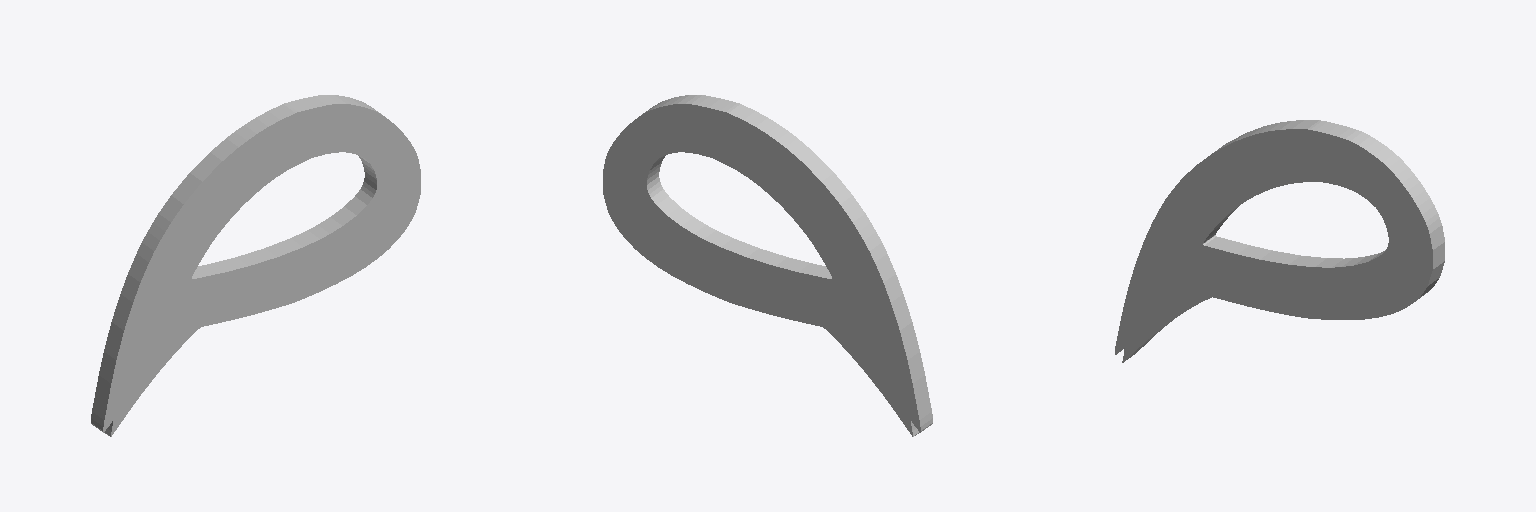
The model's file is parkzone1.obj.
3 renders of one model, left to right at view 1: azimuth 30°, elevation 25°; view 2: azimuth 150°, elevation 25°; view 3: azimuth 330°, elevation 25°, orthographic.
Parts seen in each view (by area): view 1: ParkZone_logo_noFont_(1); view 2: ParkZone_logo_noFont_(1); view 3: ParkZone_logo_noFont_(1).
Part boxes in pixels (x1,y1,x2,y2): ParkZone_logo_noFont_(1): (91,95,420,436); ParkZone_logo_noFont_(1): (603,95,932,436); ParkZone_logo_noFont_(1): (1115,120,1444,362).
Bounding box in the file's own units: 13.18 × 11.07 × 0.9.